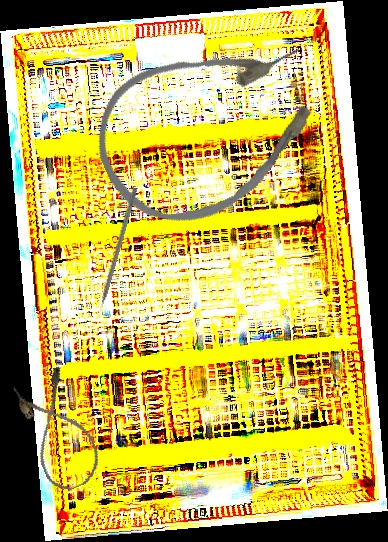Cannula: (74, 9, 348, 249), (9, 364, 108, 497)
Hook Surgical: (94, 186, 138, 320)
